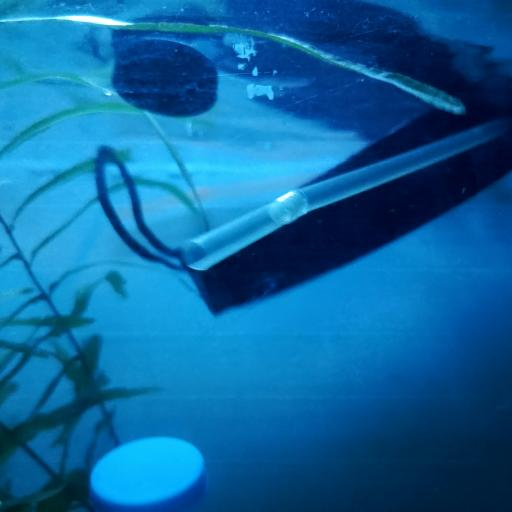bottle_cap: (90, 432, 209, 512), (114, 42, 219, 118)
mask: (90, 115, 512, 315)
plastic_straw: (184, 111, 508, 272)
